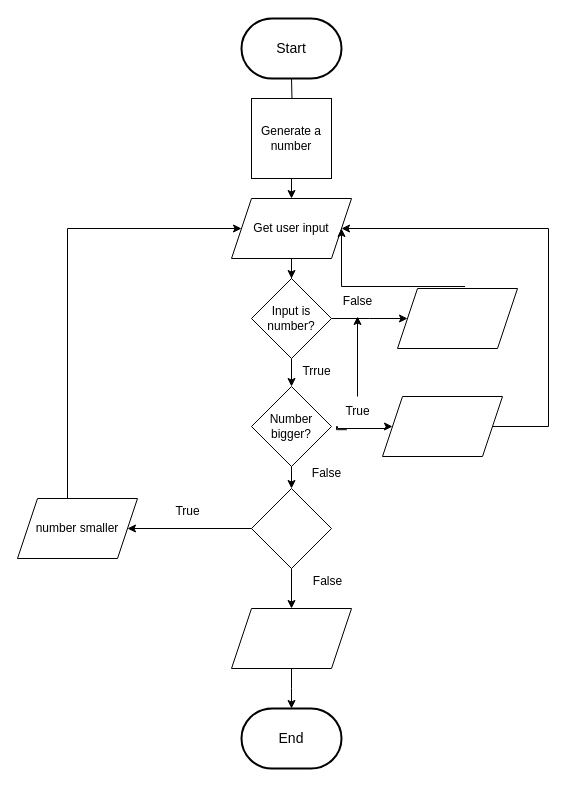
The diagram is 574 pixels wide and 786 high, and some of its shapes have lost their labels. Each missing label, with the centre of its shape:
Number bigger: the point at 442,426
Number smaller?/: the point at 291,528
Output It isn`t number: the point at 457,318
You rght! Win yours: the point at 291,638
